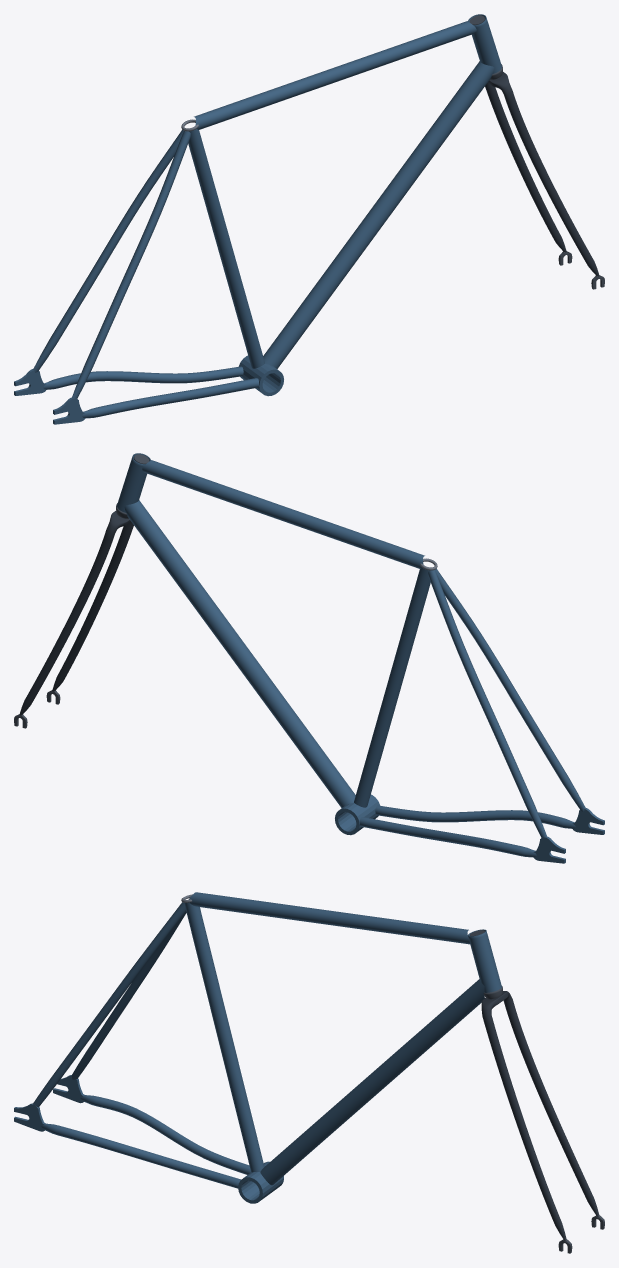
File: dosnoventa-01-bcn-s.glb
3 renders of one model, top to bottom at view 1: azimuth 30°, elevation 25°; view 2: azimuth 150°, elevation 25°; view 3: azimuth 330°, elevation 25°, orthographic.
Visible parts, largest first — view 1: paint_down, paint_top, paint_seat, paint_seatstay_1, paint_seatstay_-1, paint_chainstay_-1, fork_blade_1, paint_chainstay_1, fork_blade_-1, paint_bottom_bracket, paint_head, rear_dropout_1 (+1 smaller); view 2: paint_down, paint_top, paint_seat, paint_seatstay_-1, paint_seatstay_1, paint_chainstay_1, fork_blade_-1, paint_chainstay_-1, fork_blade_1, paint_bottom_bracket, paint_head, rear_dropout_-1 (+1 smaller); view 3: paint_down, paint_top, paint_seat, paint_seatstay_1, paint_chainstay_1, fork_blade_1, fork_blade_-1, paint_chainstay_-1, paint_seatstay_-1, paint_head, paint_bottom_bracket, rear_dropout_1 (+1 smaller).
Part boxes in pixels (x1,y1,x2,y2): paint_down: (263,61,494,368); paint_top: (194,21,476,129); paint_seat: (188,129,264,368); paint_seatstay_1: (72,131,190,398); paint_seatstay_-1: (33,129,183,372); paint_chainstay_-1: (43,366,243,389); fork_blade_1: (504,91,599,276); paint_chainstay_1: (82,378,258,418); fork_blade_-1: (485,83,566,252); paint_bottom_bracket: (238,355,283,396); paint_head: (468,14,501,73); rear_dropout_1: (53,397,85,424); paint_down: (124,500,355,807); paint_top: (142,460,424,568); paint_seat: (354,568,430,807); paint_seatstay_-1: (428,570,547,837); paint_seatstay_1: (435,568,585,811); paint_chainstay_1: (375,805,575,828); fork_blade_-1: (19,530,114,715); paint_chainstay_-1: (360,817,536,857); fork_blade_1: (52,522,133,691); paint_bottom_bracket: (335,794,380,835); paint_head: (117,453,150,512); rear_dropout_-1: (533,836,565,863); paint_down: (260,979,484,1185); paint_top: (189,892,469,944); paint_seat: (184,902,264,1172); paint_seatstay_1: (33,902,185,1107); paint_chainstay_1: (41,1123,241,1188); fork_blade_1: (482,1015,566,1240); fork_blade_-1: (504,999,599,1216); paint_chainstay_-1: (80,1094,250,1174); paint_seatstay_-1: (71,911,186,1079); paint_head: (468,929,501,992); paint_bottom_bracket: (238,1161,283,1203); rear_dropout_1: (14,1103,44,1131).
Size of the model in its own units: 1.02 by 0.5625 by 0.144.
